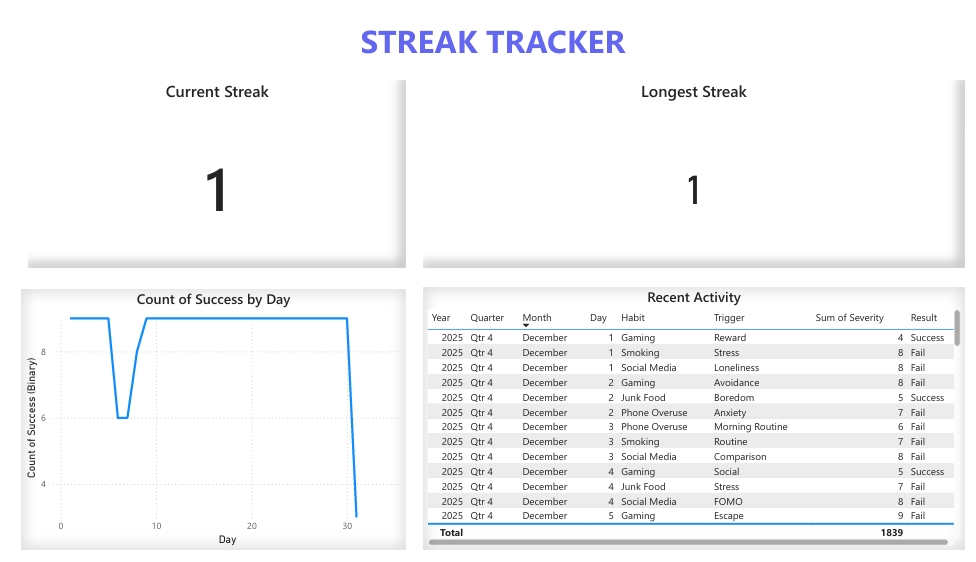

What the dashboard file says about the page in this screenshot:
{"tool":"powerbi","page":{"name":"Page 3","canvas":[1280,720],"ordinal":2},"visuals":[{"type":"textbox","box":[10.2,0,1270.2,71.7],"z":0},{"type":"card","title":"Current Streak","fields":{"Values":["habit_data.Current Streak"]},"box":[20.5,87.8,507.8,253.2],"z":1000},{"type":"card","title":"Longest Streak","fields":{"Values":["habit_data.Longest Streak"]},"box":[551.7,87.8,728.8,253.2],"z":2000},{"type":"lineChart","title":"Count of Success by Day","fields":{"Category":["habit_data.Date.Variation.Date Hierarchy.Day"],"Y":["CountNonNull(habit_data.Success (Binary))"]},"box":[10.2,370.2,518,349.8],"z":3000},{"type":"tableEx","title":"Recent Activity","fields":{"Values":["habit_data.Date.Variation.Date Hierarchy.Year","habit_data.Date.Variation.Date Hierarchy.Quarter","habit_data.Date.Variation.Date Hierarchy.Month","habit_data.Date.Variation.Date Hierarchy.Day","habit_data.Habit","habit_data.Trigger","Sum(habit_data.Severity)","habit_data.Result"]},"box":[551.7,367.3,728.8,352.7],"z":4000}]}

Visuals, with their boxes in screenshot pixels (x1, y1, x2, y2), scaled from the page's 1280x720 canvas onto the 976x562 screenshot:
textbox: x1=8 y1=0 x2=975 y2=56
"Current Streak" card: x1=16 y1=69 x2=403 y2=266
"Longest Streak" card: x1=421 y1=69 x2=975 y2=266
"Count of Success by Day" lineChart: x1=8 y1=289 x2=403 y2=561
"Recent Activity" tableEx: x1=421 y1=287 x2=975 y2=561
